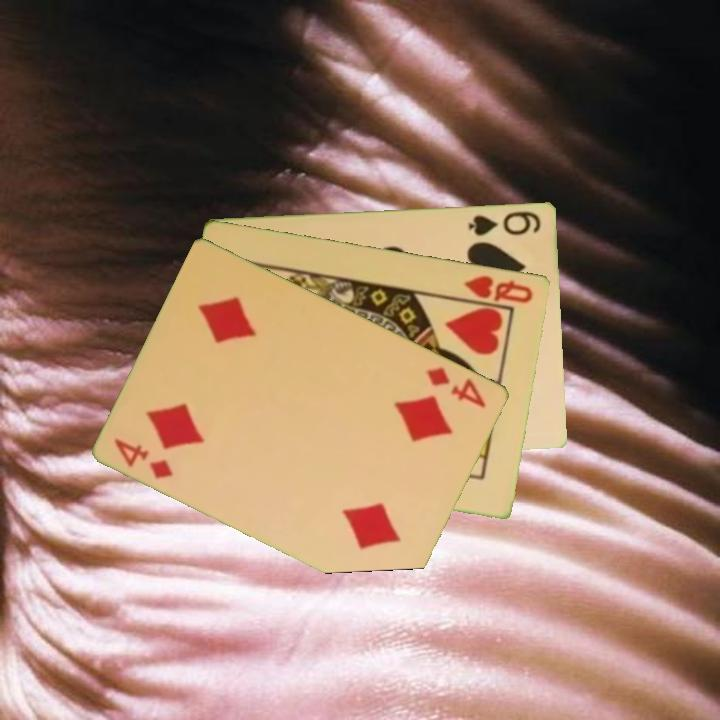4d: (423, 362, 490, 411), (110, 434, 177, 482)
6s: (465, 207, 544, 239)
Qh: (460, 271, 536, 306)
